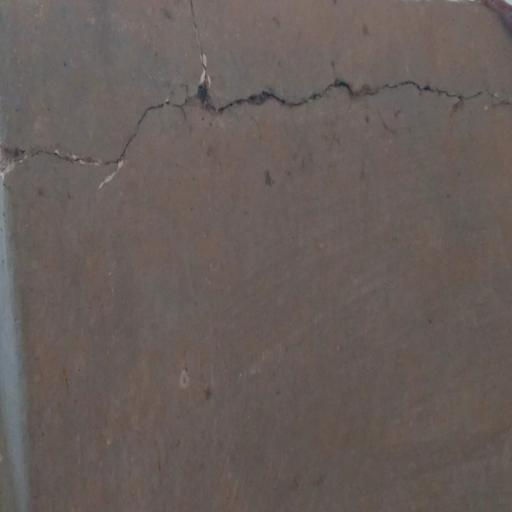major_crack: (0, 1, 512, 187)
